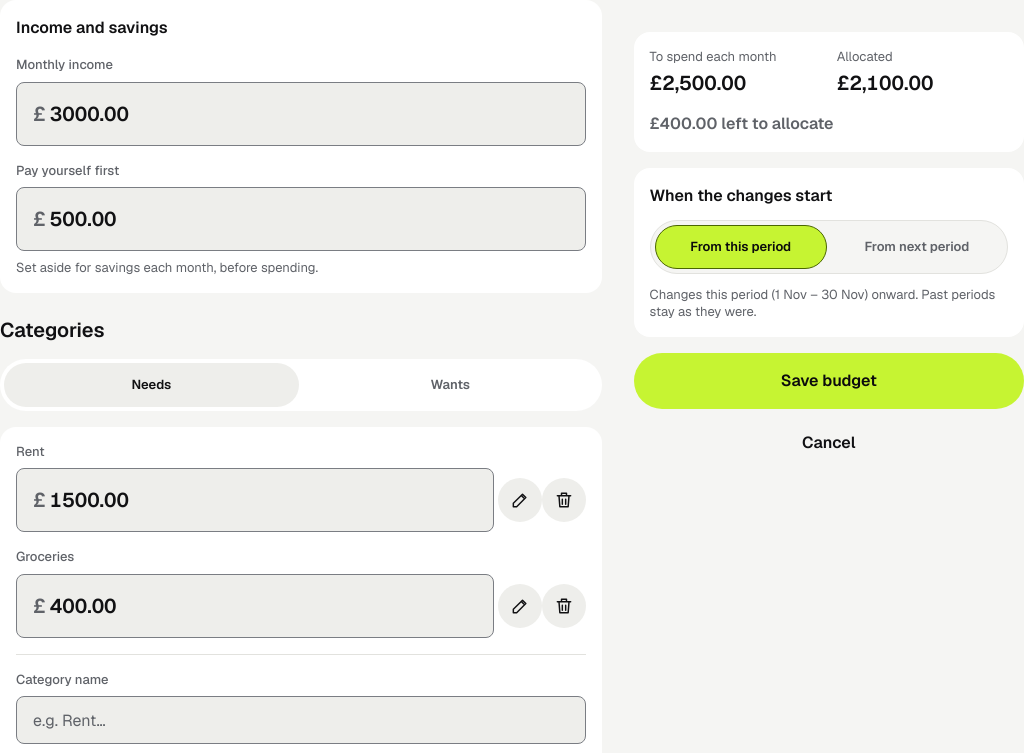
BudgetEditor › keeps Needs and Wants on separate tabs
Expected: the field labelled "Eating out" is not shown
Step 1. Click the tab "Wants" → coordinates (450, 385), box left=303, top=363, right=598, bottom=407
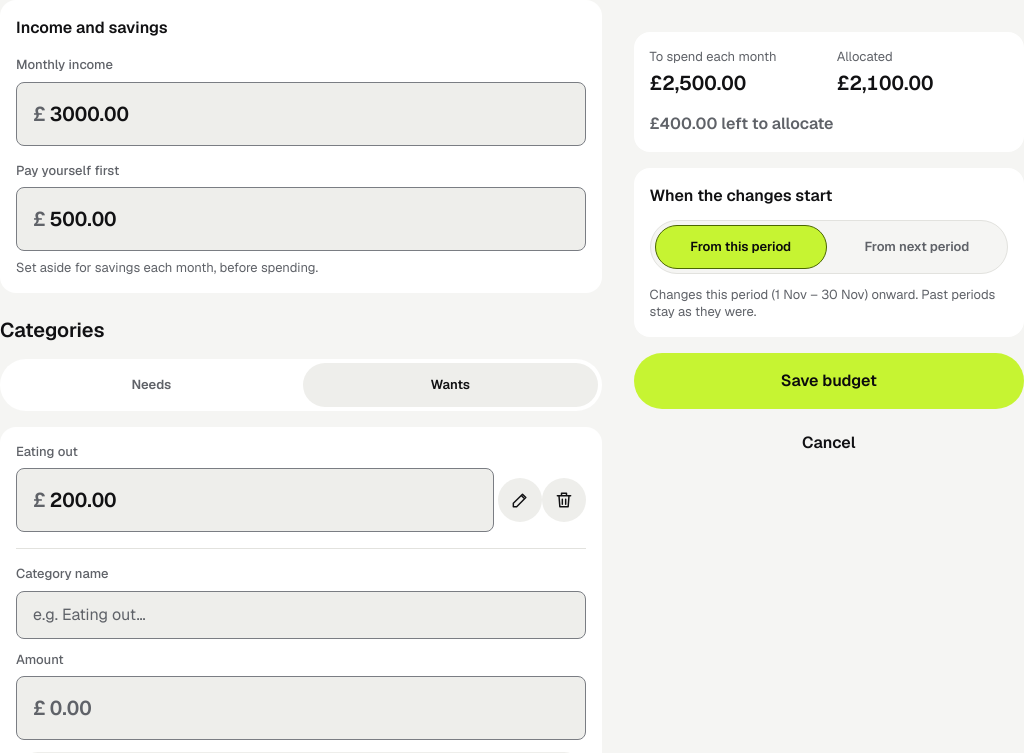
Expected: the field labelled "Eating out" holds "200.00", left=50, top=487, right=477, bottom=513
